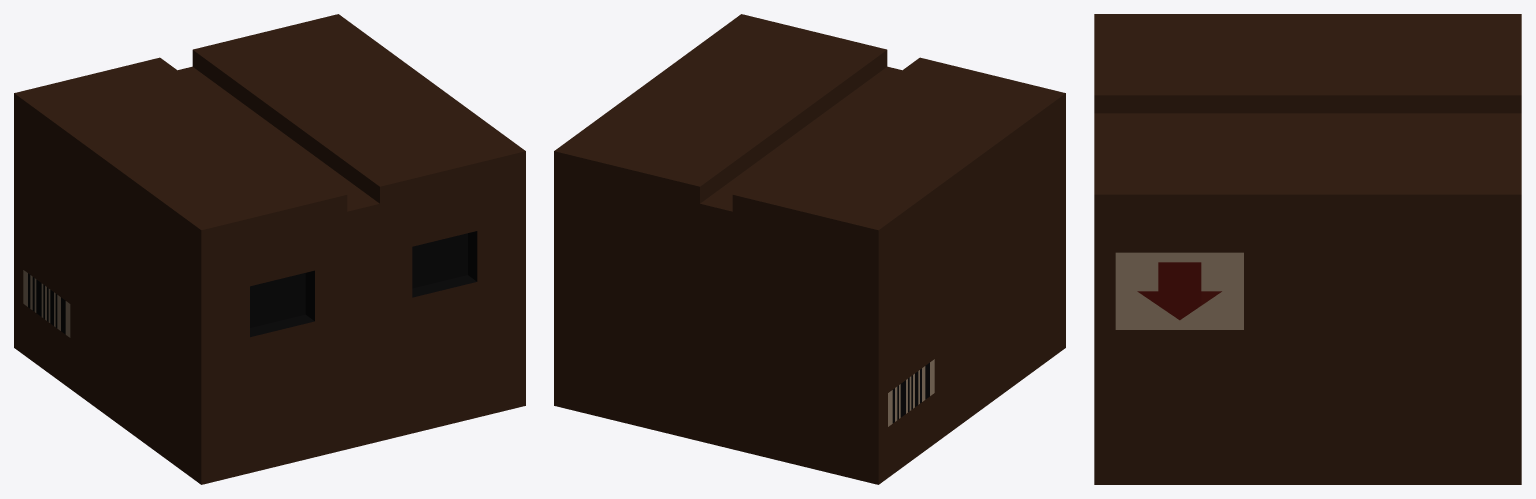
The model's file is magpieDisguise_idle.glb.
3 views of the same model, side by side, from view 1: azimuth 30°, elevation 25°; view 2: azimuth 150°, elevation 25°; view 3: azimuth 270°, elevation 25° (orthographic). The views are drawn at different scales.
Visible parts, largest first — view 1: magpieDisguiseIdle_body_MSH; view 2: magpieDisguiseIdle_body_MSH; view 3: magpieDisguiseIdle_body_MSH.
Boxes of the visible parts, x1,y1,x2,y2 form: magpieDisguiseIdle_body_MSH: [14, 14, 525, 484]; magpieDisguiseIdle_body_MSH: [554, 14, 1065, 484]; magpieDisguiseIdle_body_MSH: [1094, 14, 1521, 484].
Size of the model in its own units: 0.8333 by 0.625 by 0.8333.
